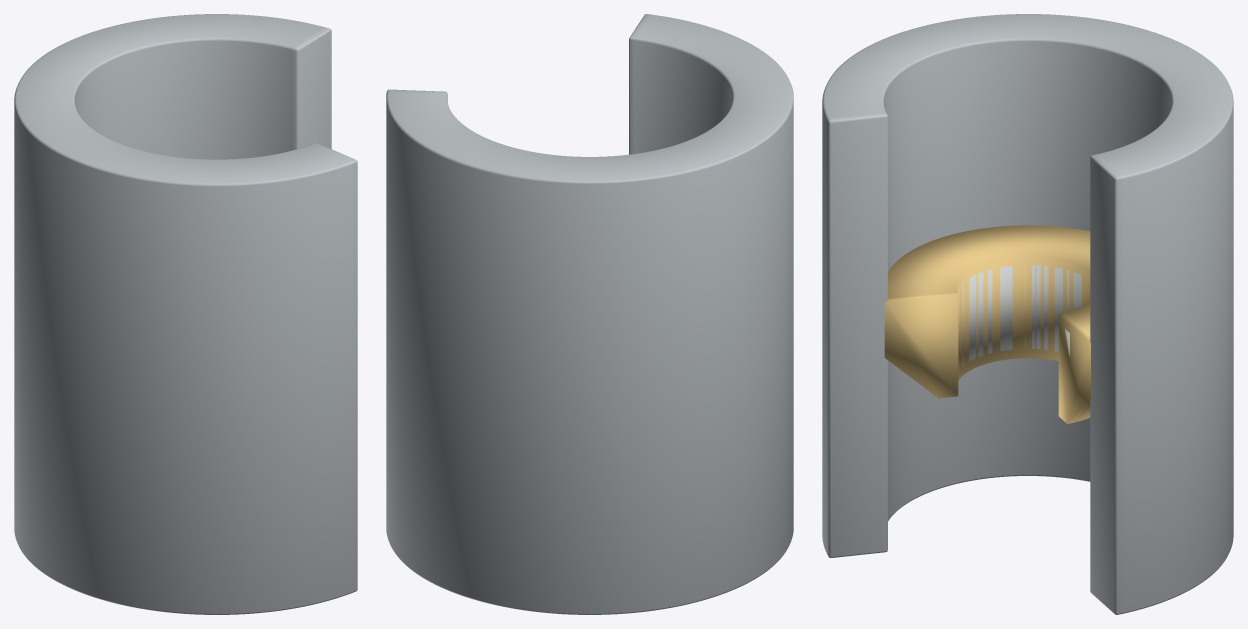
File: landing-collar.glb
3 views of the same model, side by side, from view 1: azimuth 30°, elevation 25°; view 2: azimuth 150°, elevation 25°; view 3: azimuth 270°, elevation 25° (orthographic).
Parts seen in each view (by area): view 1: Landing collar; view 2: Landing collar; view 3: Landing collar, Baffle seat, Plug bore.
Boxes of the visible parts, left/top/right/bottom form: Landing collar: left=14, top=14, right=357, bottom=614; Landing collar: left=386, top=14, right=793, bottom=614; Landing collar: left=822, top=14, right=1233, bottom=614; Baffle seat: left=884, top=225, right=1090, bottom=423; Plug bore: left=959, top=265, right=1081, bottom=369.
Bounding box in the file's own units: 1.9 × 2.35 × 2.
